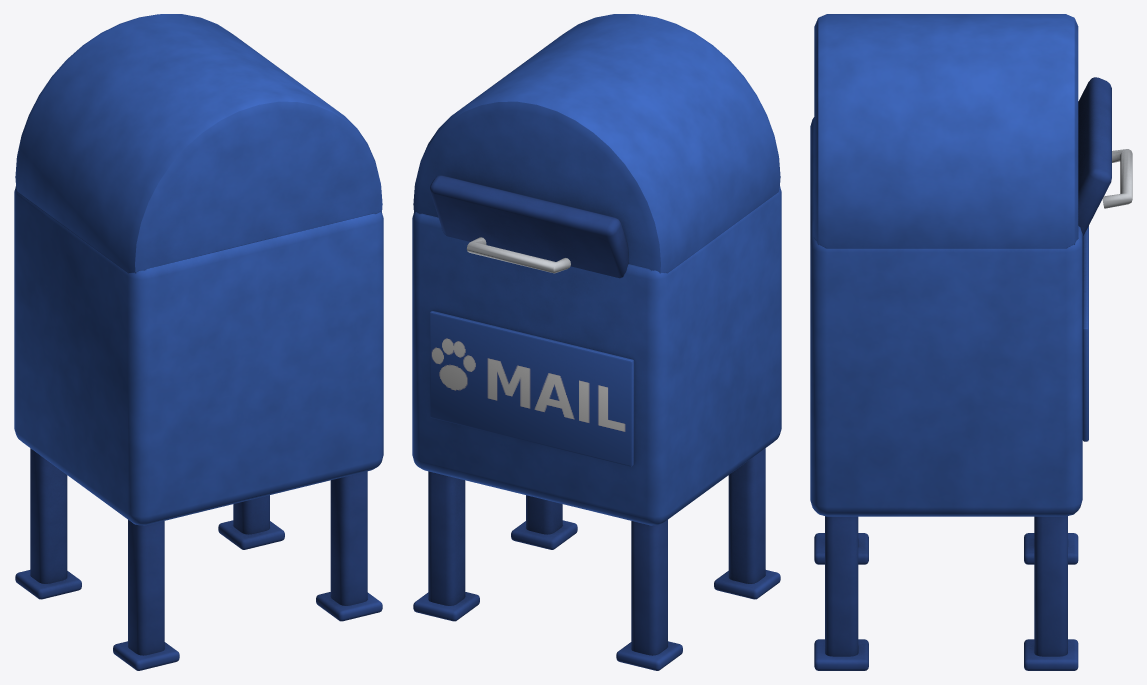
File: Mailbox.fbx
3 renders of one model, left to right at view 1: azimuth 30°, elevation 25°; view 2: azimuth 150°, elevation 25°; view 3: azimuth 270°, elevation 25°, orthographic. The views are drawn at different scales.
Visible parts, largest first — view 1: Mailbox; view 2: Mailbox; view 3: Mailbox.
Part boxes in pixels (x1,y1,x2,y2): Mailbox: [14, 14, 383, 670]; Mailbox: [412, 14, 781, 670]; Mailbox: [810, 14, 1132, 670].
Bounding box in the file's own units: 1.5 × 3.06 × 1.54.
Materials: 1 (1 with a texture image).
